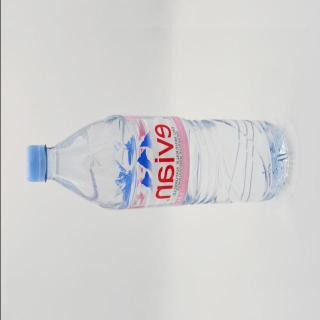Anorganik: (23, 108, 295, 214)
